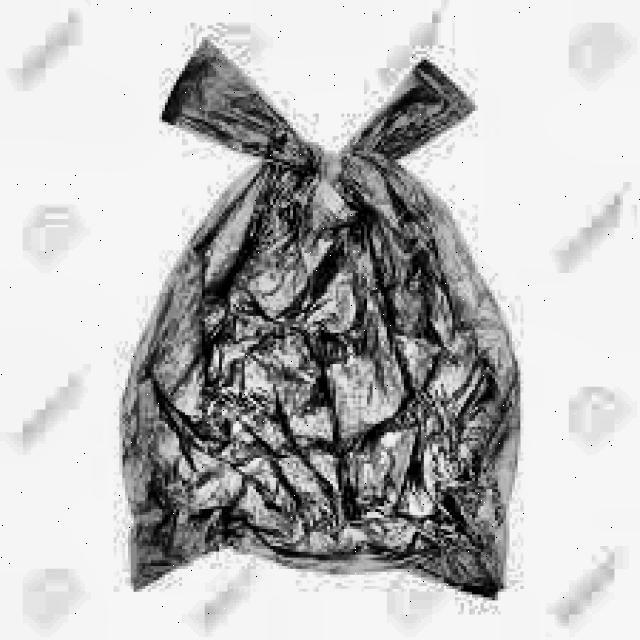Trashbag: (110, 36, 522, 619)
